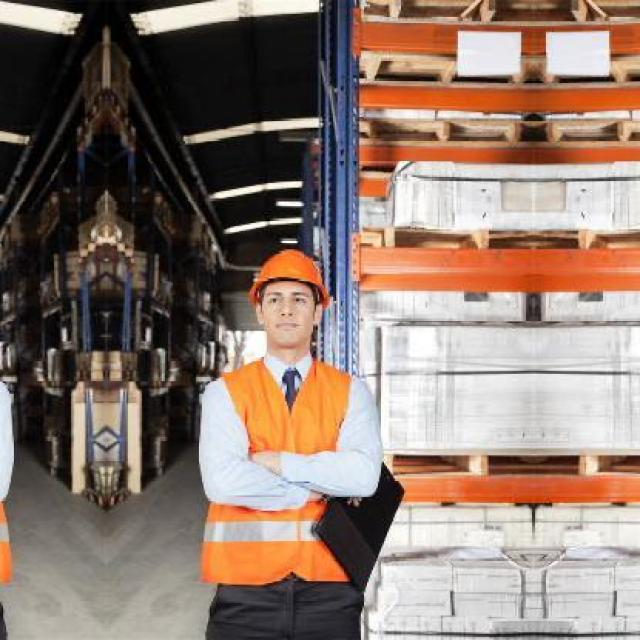Reflective-Jacket: (192, 352, 372, 592)
Safety-Helmet: (240, 242, 338, 309)
